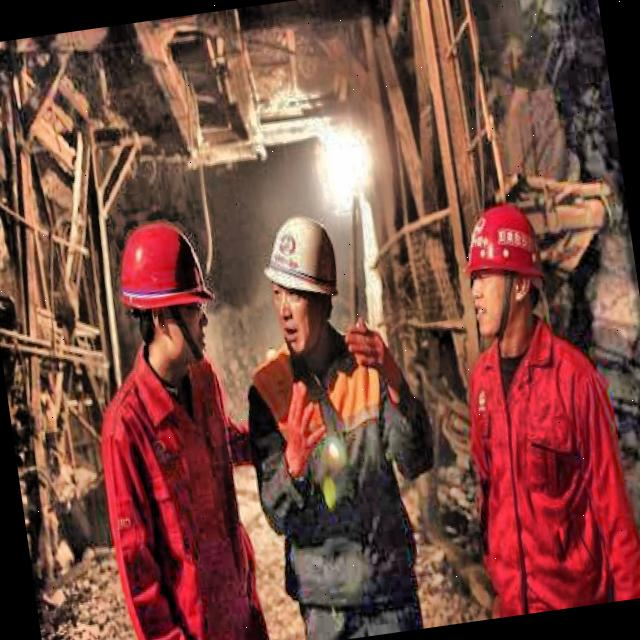helmet: (102, 206, 222, 385), (446, 188, 554, 354), (258, 198, 359, 372)
